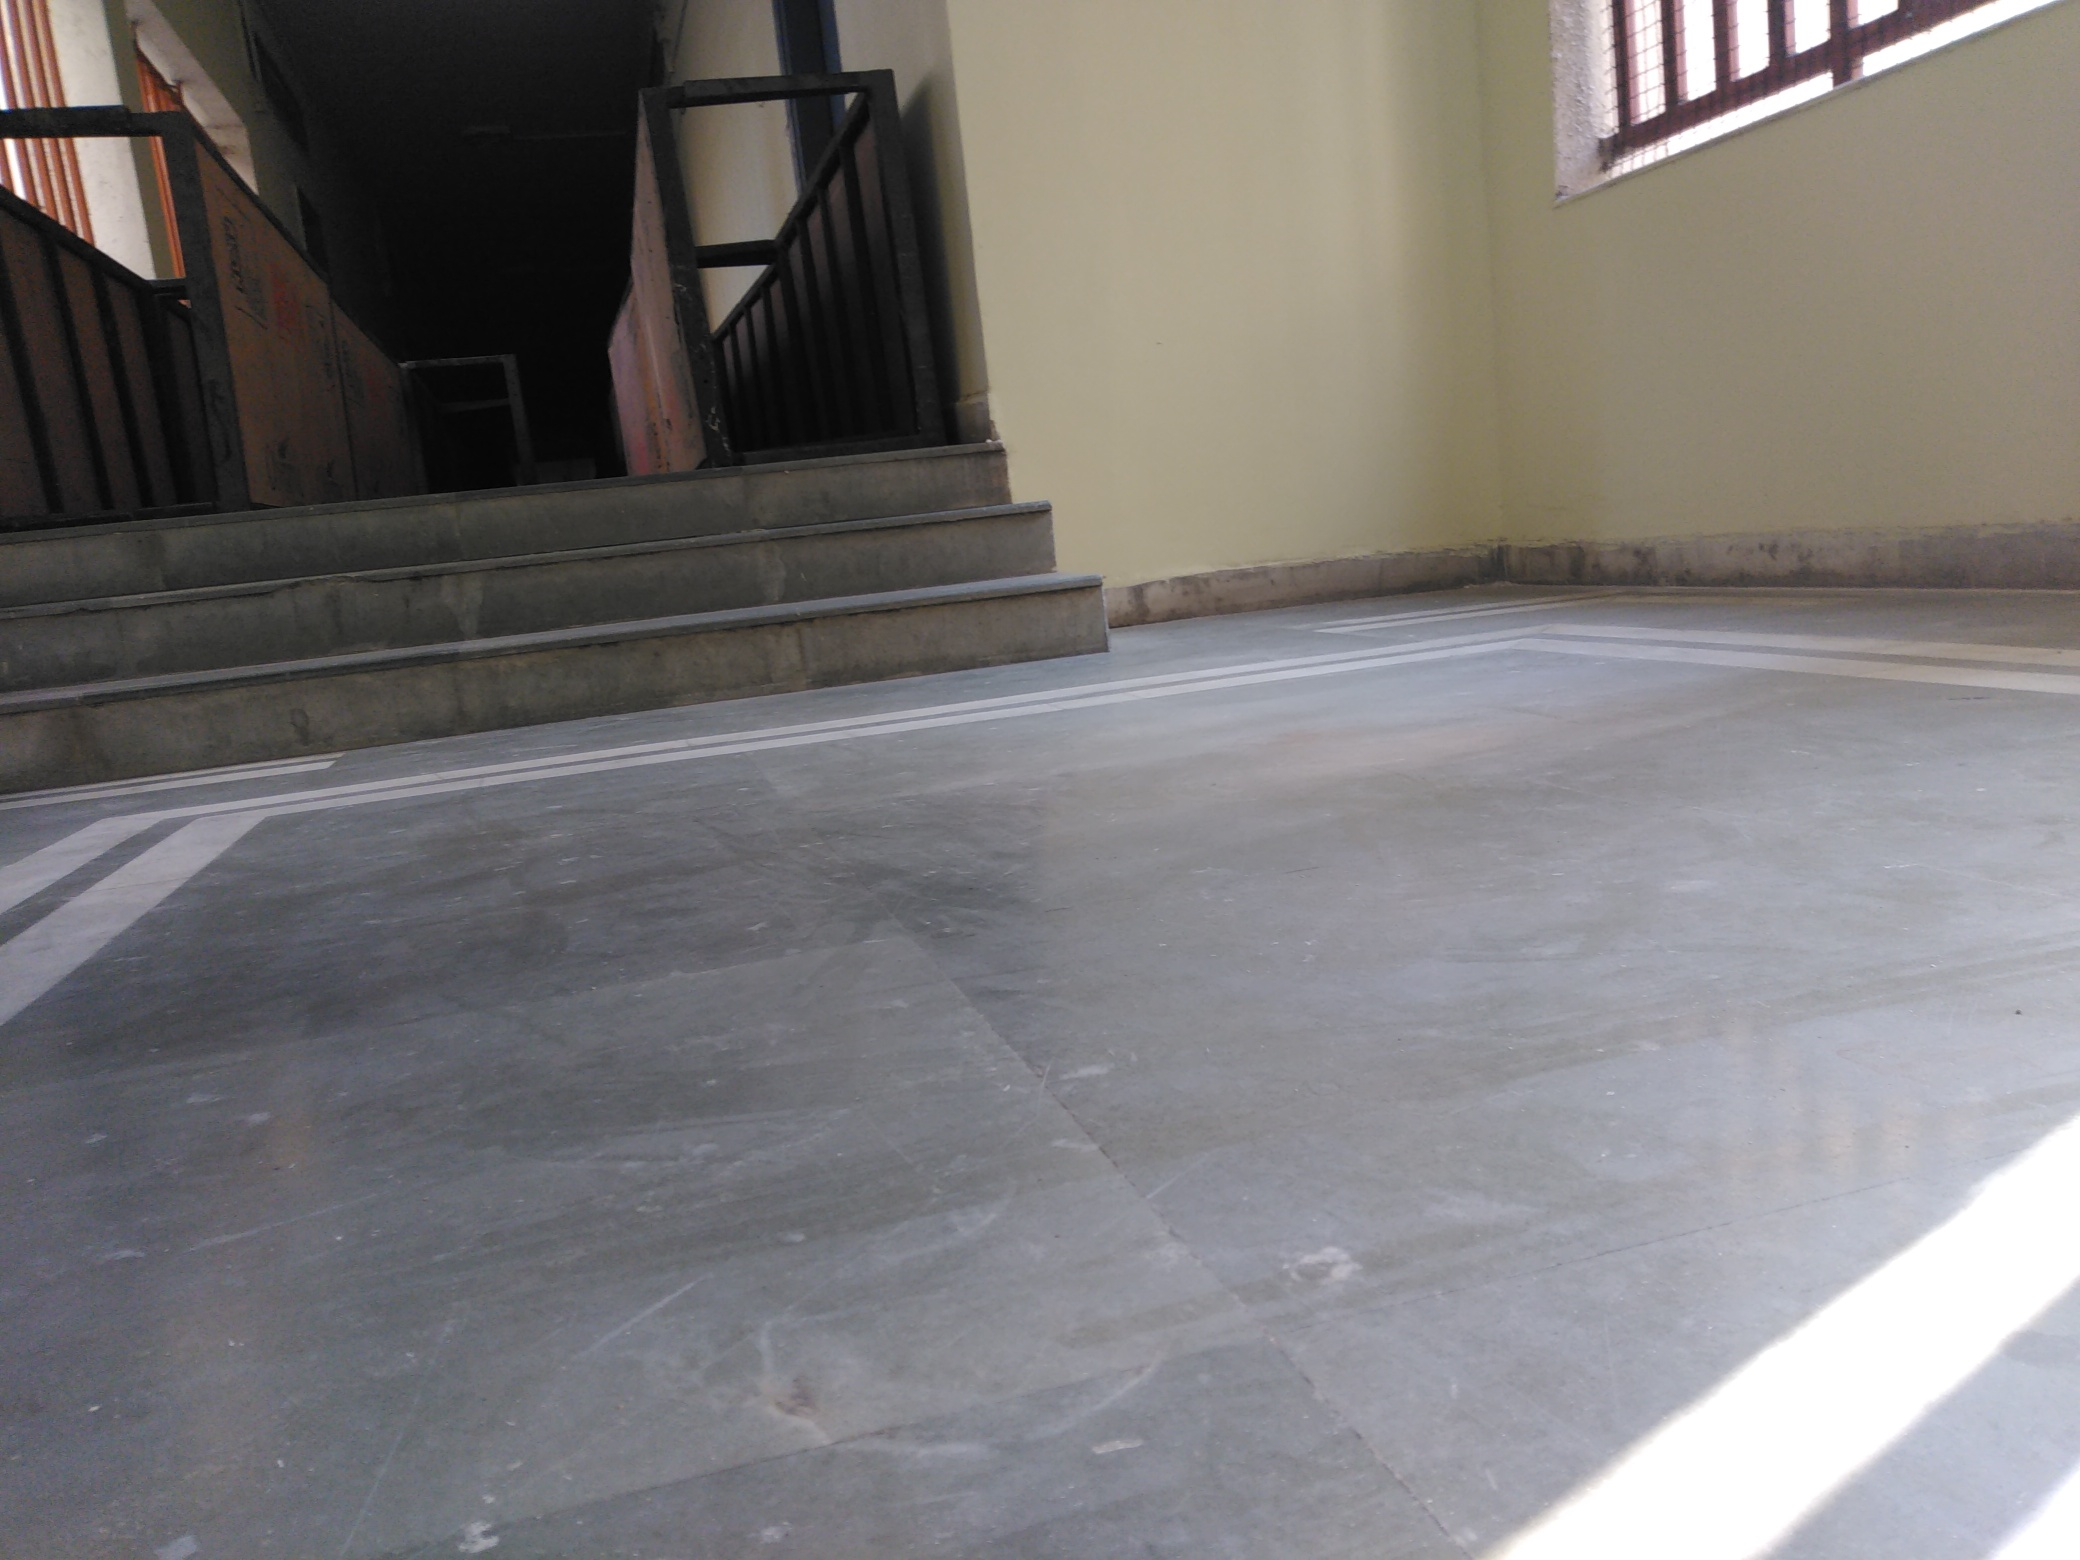stairs_up: (2, 456, 1153, 723)
